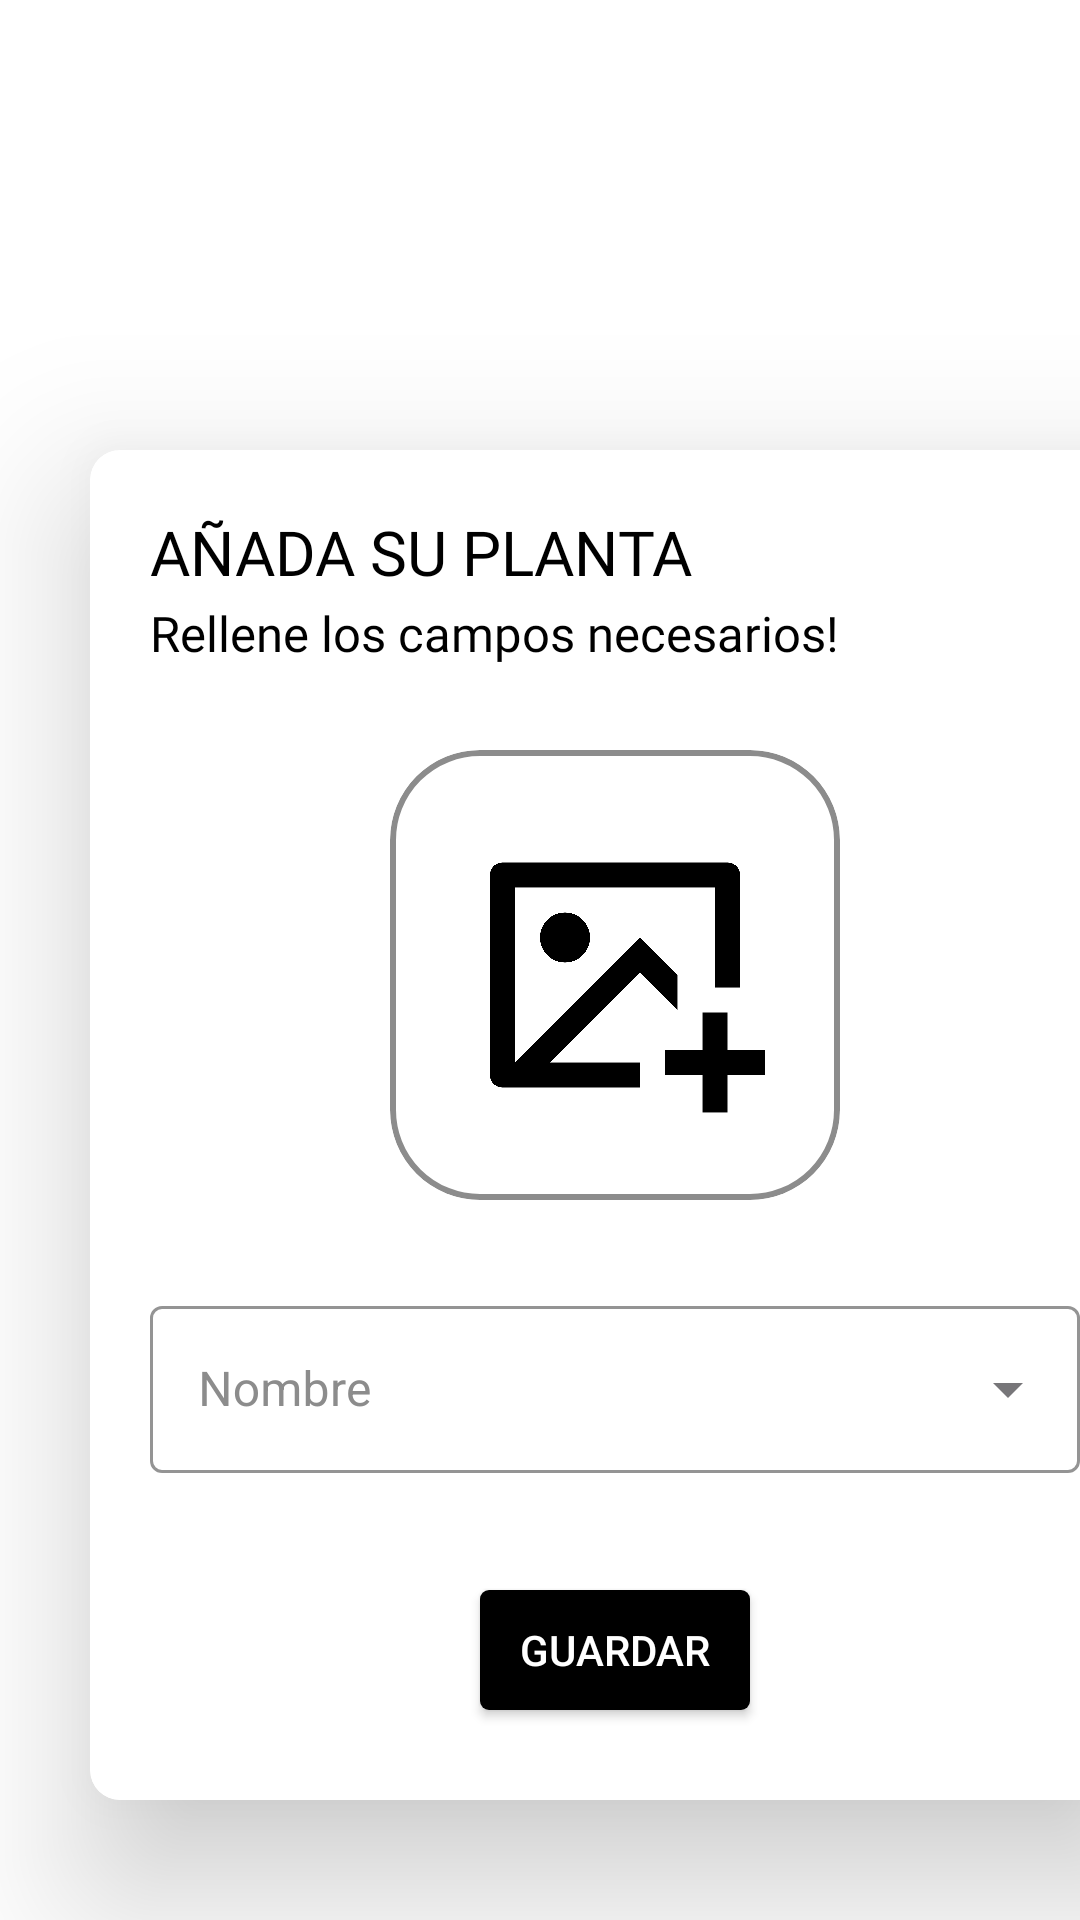

Point at icon controls on the screen. Image size 1080 x 1920, points as point (x, y).
add: point (627, 987)
